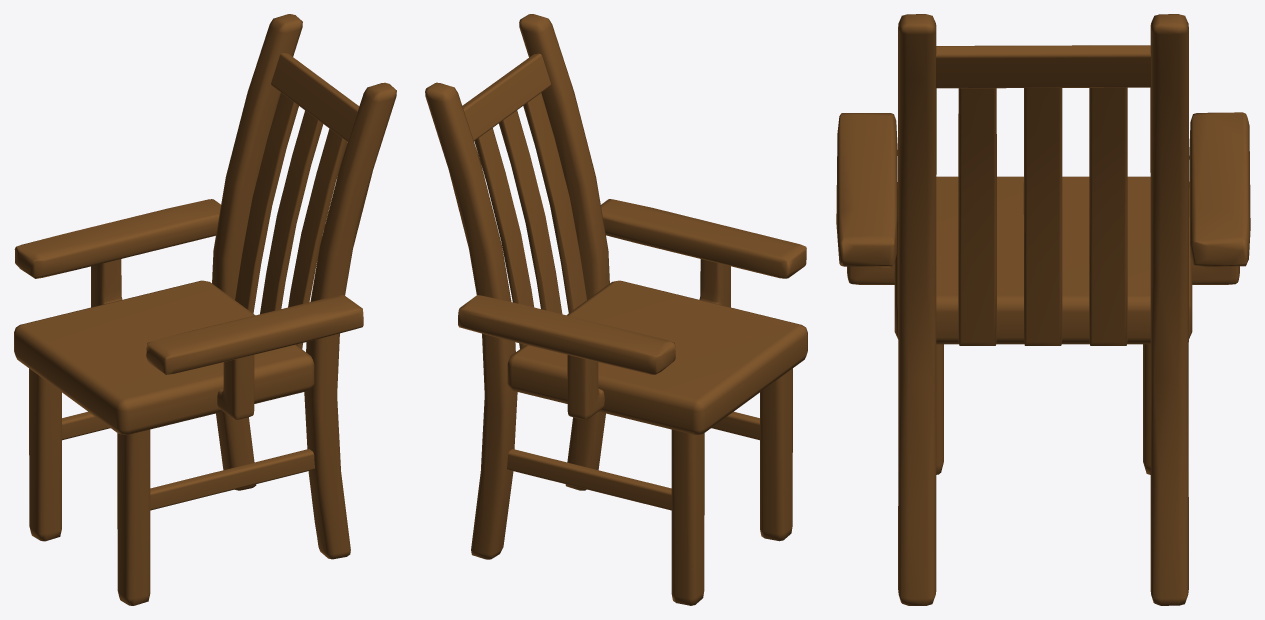
The model's file is chair_08_wooden.fbx.
The picture shows the model from 3 angles, left to right: view 1: azimuth 30°, elevation 25°; view 2: azimuth 150°, elevation 25°; view 3: azimuth 270°, elevation 25°; orthographic projection. The views are drawn at different scales.
Visible parts, largest first — view 1: chair_08_wooden; view 2: chair_08_wooden; view 3: chair_08_wooden.
Boxes of the visible parts, bbox=[...] form: chair_08_wooden: bbox=[14, 14, 396, 605]; chair_08_wooden: bbox=[425, 14, 807, 605]; chair_08_wooden: bbox=[836, 14, 1250, 605].
Bounding box in the file's own units: 67.91 × 106 × 64.81.
1 material, 1 textured.
